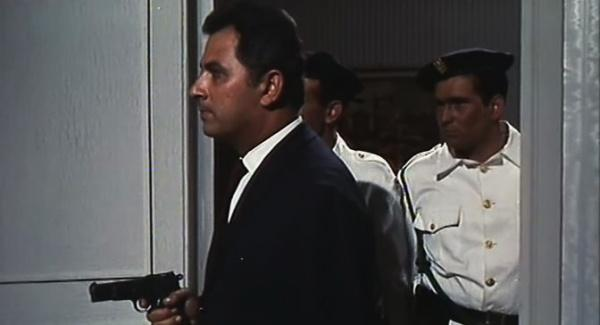Gun: (89, 271, 190, 324)
